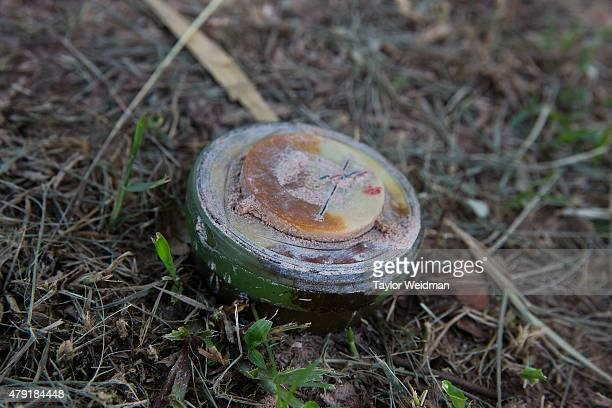pmn: (181, 118, 424, 331)
